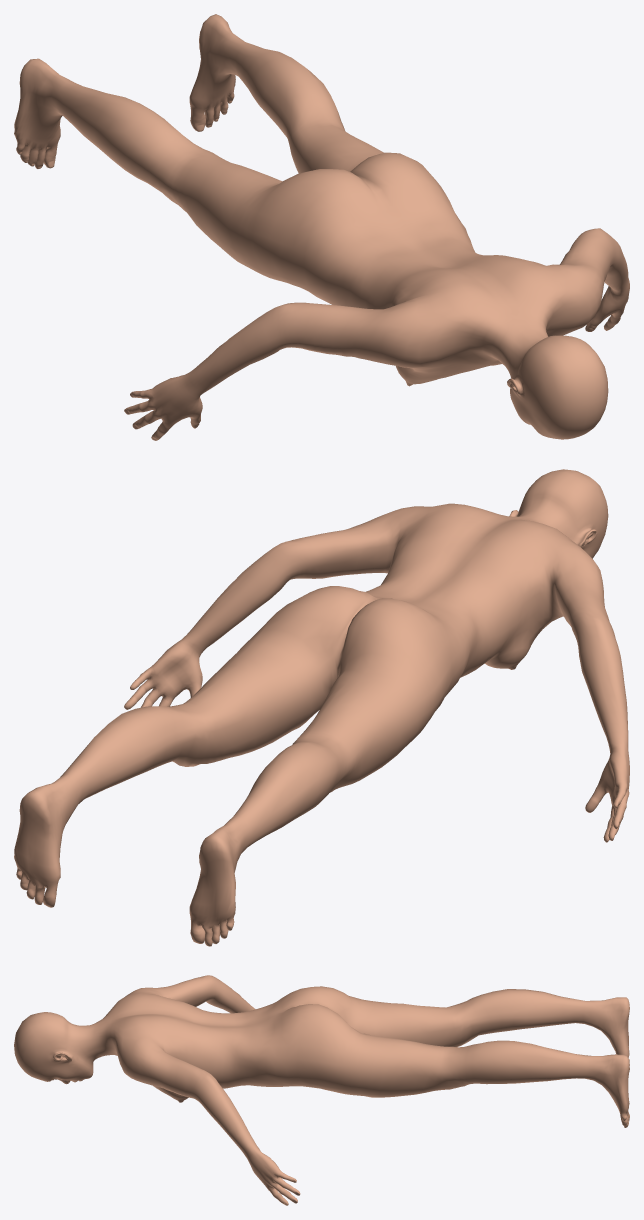
Rendered from mh_female.obj.
3 renders of one model, top to bottom at view 1: azimuth 30°, elevation 25°; view 2: azimuth 150°, elevation 25°; view 3: azimuth 270°, elevation 25°, orthographic. The views are drawn at different scales.
Visible parts, largest first — view 1: Human; view 2: Human; view 3: Human.
Part boxes in pixels (bbox=[...]): Human: bbox=[14, 14, 629, 440]; Human: bbox=[14, 469, 629, 946]; Human: bbox=[14, 975, 629, 1205].
Size of the model in its own units: 0.9712 by 0.384 by 1.59.
